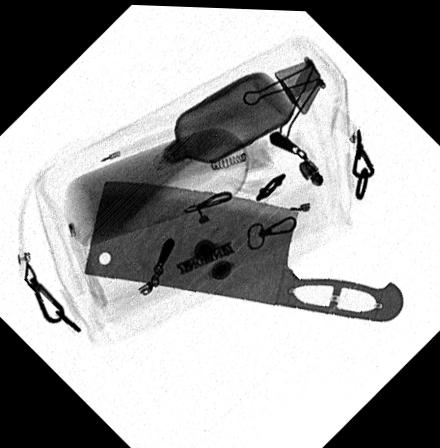Knife: (82, 178, 404, 319)
